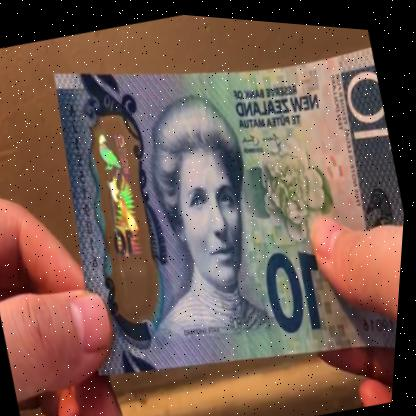10B: (80, 112, 173, 300)
